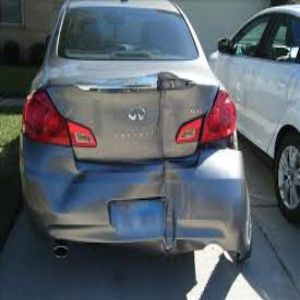bumper: (49, 216, 151, 284)
